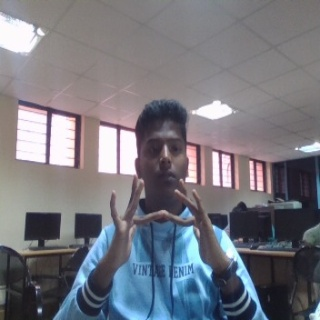Internet: (102, 175, 221, 270)
